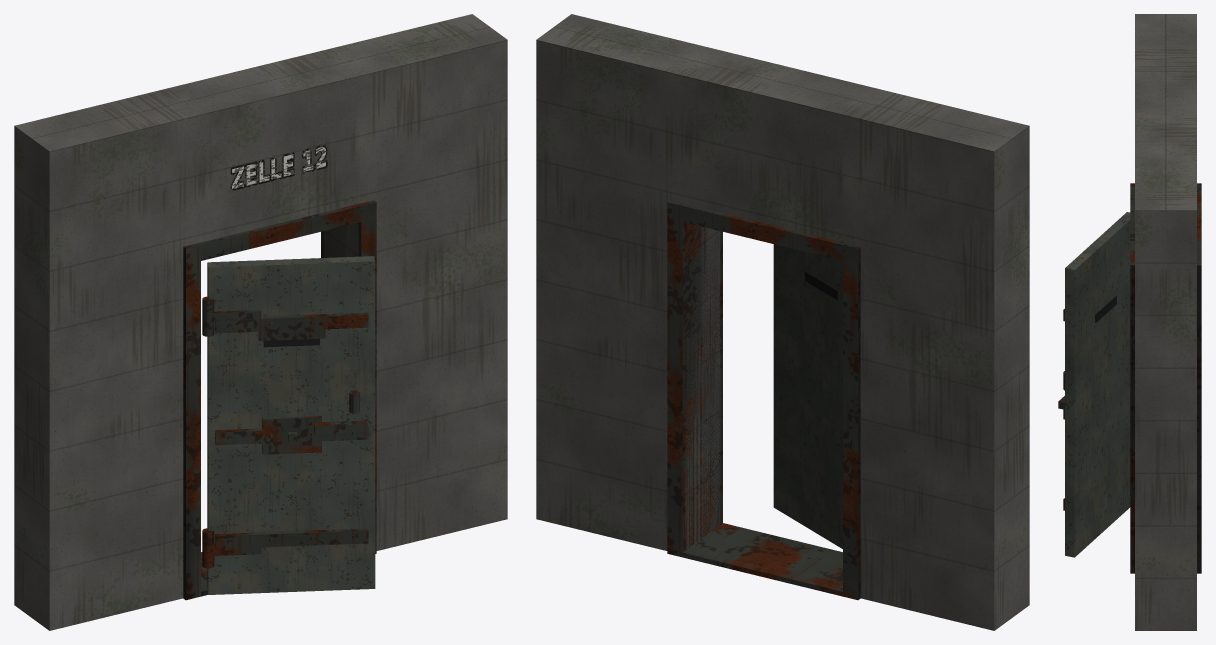
File: cell_door.glb
3 renders of one model, left to right at view 1: azimuth 30°, elevation 25°; view 2: azimuth 150°, elevation 25°; view 3: azimuth 270°, elevation 25°, orthographic. The views are drawn at different scales.
Visible parts, largest first — view 1: CellDoorFrame, Door; view 2: CellDoorFrame, Door; view 3: CellDoorFrame, Door.
Part boxes in pixels (x1,y1,x2,y2): CellDoorFrame: (14,14,507,630); Door: (202,256,375,594); CellDoorFrame: (536,14,1029,630); Door: (773,244,842,548); CellDoorFrame: (1130,14,1201,630); Door: (1058,212,1130,557).
Size of the model in its own units: 3 by 3 by 0.9254.
5 materials, 4 textured.
